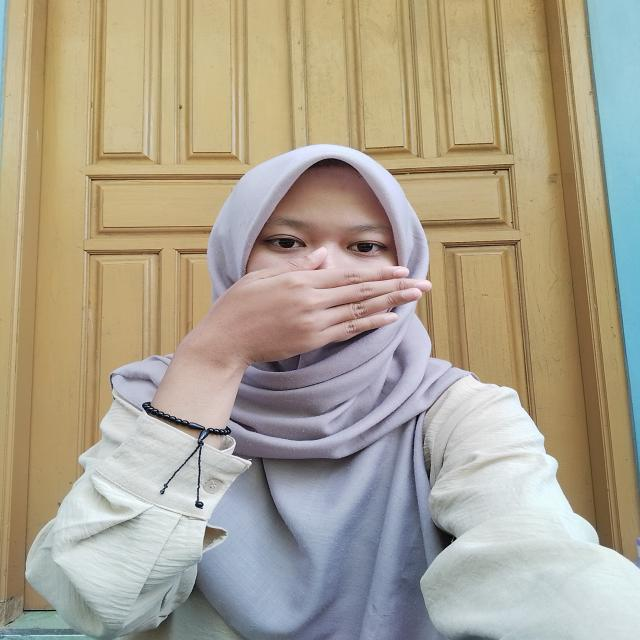buruk: (170, 235, 437, 356)
